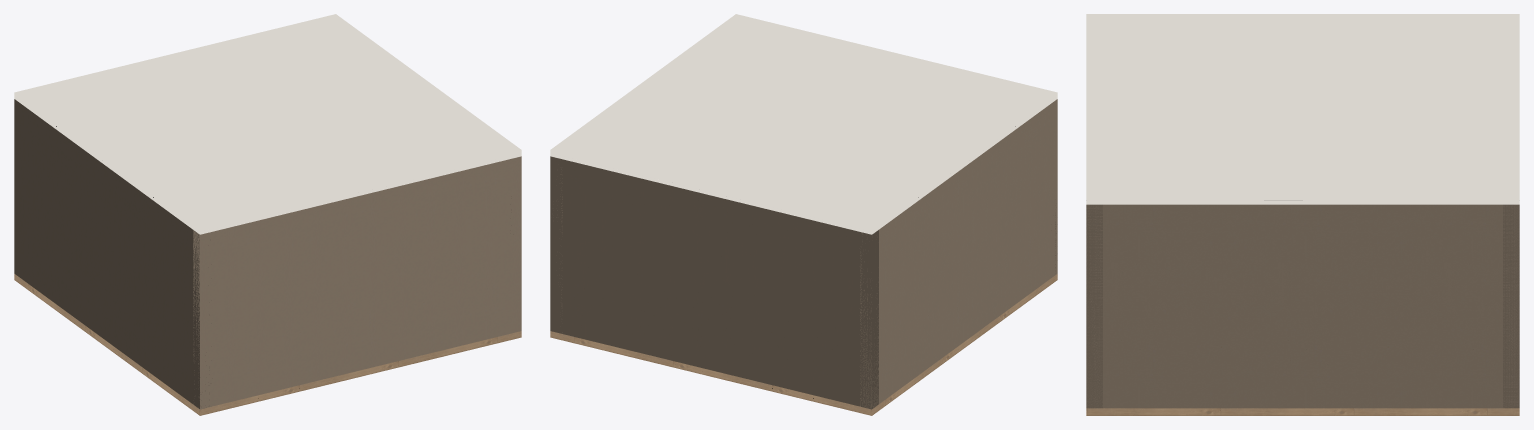
File: room.glb
3 views of the same model, side by side, from view 1: azimuth 30°, elevation 25°; view 2: azimuth 150°, elevation 25°; view 3: azimuth 270°, elevation 25° (orthographic). The views are drawn at different scales.
Parts seen in each view (by area): view 1: Ceiling, Wall_Front, Wall_Left, Floor; view 2: Ceiling, Wall_Back, Wall_Left, Floor; view 3: Wall_Right, Ceiling, Wall_Front, Wall_Back, Floor.
Boxes of the visible parts, x1=… form: Ceiling: x1=14, y1=14, x2=521, y2=234; Wall_Front: x1=193, y1=156, x2=521, y2=409; Wall_Left: x1=14, y1=99, x2=199, y2=408; Floor: x1=14, y1=274, x2=521, y2=415; Ceiling: x1=550, y1=14, x2=1057, y2=234; Wall_Back: x1=550, y1=156, x2=878, y2=409; Wall_Left: x1=860, y1=99, x2=1057, y2=408; Floor: x1=550, y1=274, x2=1057, y2=415; Wall_Right: x1=1086, y1=204, x2=1519, y2=408; Ceiling: x1=1086, y1=14, x2=1519, y2=204; Wall_Front: x1=1086, y1=204, x2=1102, y2=408; Wall_Back: x1=1503, y1=204, x2=1519, y2=408; Floor: x1=1086, y1=408, x2=1519, y2=415.
Size of the model in its own units: 5.2 by 2.9 by 5.2.
51 materials, 7 textured.
